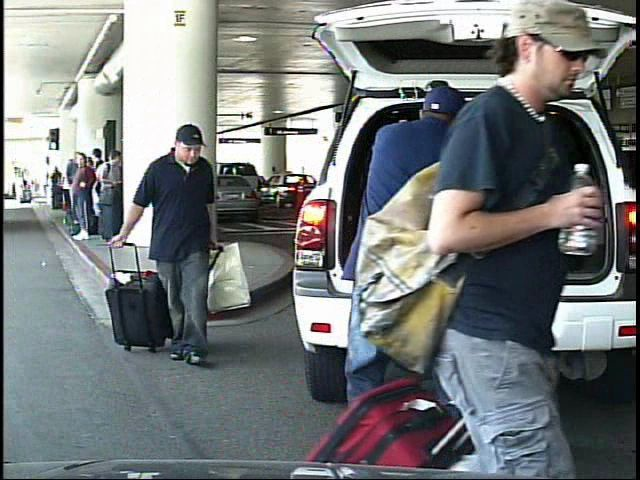person: (386, 12, 579, 476), (329, 73, 508, 475), (106, 124, 238, 373), (13, 173, 24, 204)
